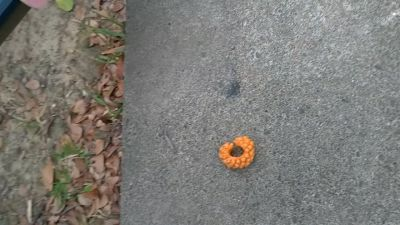eggs: (217, 135, 257, 170)
